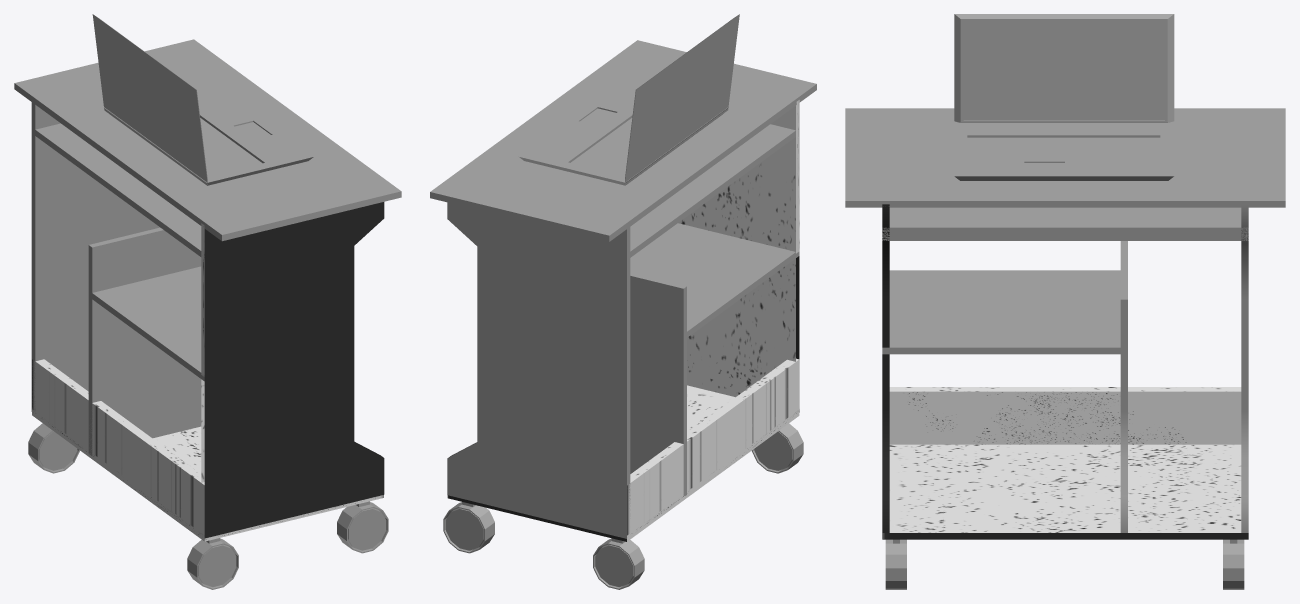
The model's file is table_laptop.fbx.
3 views of the same model, side by side, from view 1: azimuth 30°, elevation 25°; view 2: azimuth 150°, elevation 25°; view 3: azimuth 270°, elevation 25° (orthographic). The views are drawn at different scales.
Parts seen in each view (by area): view 1: pCube2, pCube4, pCube3, pCube10, pCube6, pCube1, pCube7, pCube5, pPipe5, pPipe2, pPipe4; view 2: pCube3, pCube4, pCube2, pCube10, pCube1, pCube6, pCube7, pCube5, pPipe4, pPipe3, pPipe5; view 3: pCube1, pCube10, pCube4, pCube7, pCube5, pCube3, pCube2, pCube6, pPipe2, pPipe3.
Part boxes in pixels (bbox=[...]): pCube2: bbox=[201, 202, 384, 538]; pCube4: bbox=[14, 39, 401, 241]; pCube3: bbox=[31, 99, 159, 413]; pCube10: bbox=[92, 14, 313, 185]; pCube6: bbox=[88, 227, 201, 455]; pCube1: bbox=[32, 359, 383, 541]; pCube7: bbox=[90, 266, 204, 381]; pCube5: bbox=[32, 123, 204, 259]; pPipe5: bbox=[187, 538, 238, 589]; pPipe2: bbox=[337, 501, 388, 553]; pPipe4: bbox=[28, 423, 79, 473]; pCube3: bbox=[447, 202, 630, 538]; pCube4: bbox=[430, 40, 816, 241]; pCube2: bbox=[678, 100, 799, 412]; pCube10: bbox=[519, 14, 739, 185]; pCube1: bbox=[447, 358, 799, 541]; pCube6: bbox=[630, 272, 686, 495]; pCube7: bbox=[630, 223, 799, 339]; pCube5: bbox=[627, 124, 795, 259]; pPipe4: bbox=[593, 538, 644, 589]; pPipe3: bbox=[443, 502, 494, 553]; pPipe5: bbox=[752, 423, 803, 473]; pCube1: bbox=[882, 387, 1248, 539]; pCube10: bbox=[954, 14, 1174, 180]; pCube4: bbox=[845, 108, 1285, 207]; pCube7: bbox=[882, 270, 1126, 354]; pCube5: bbox=[882, 207, 1248, 240]; pCube3: bbox=[1241, 204, 1248, 532]; pCube2: bbox=[882, 204, 889, 532]; pCube6: bbox=[1120, 241, 1127, 532]; pPipe2: bbox=[885, 539, 906, 589]; pPipe3: bbox=[1223, 539, 1244, 589].
Size of the model in its own units: 32.02 by 75.46 by 60.09.
